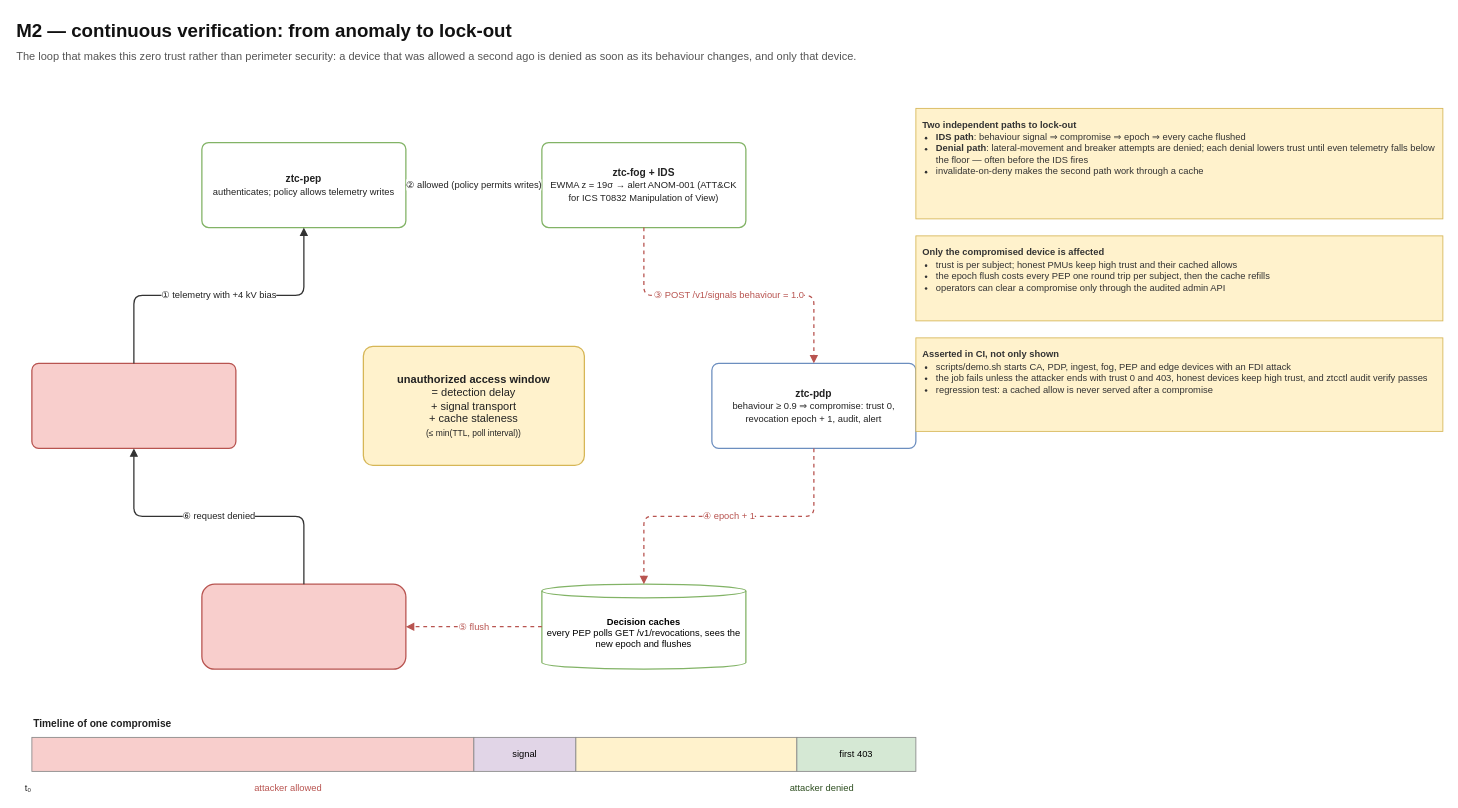
This 1458x808 diagram has some shape labels left out. Here are the shapes that lost their labels. From the top down, the box of each, then its label:
(31, 362, 236, 449): Compromised PMU pmu-b1-3 injects false data
(201, 583, 406, 669): ztc-pep next request: cache miss → PDP deny → 403
(31, 737, 474, 771): detection delay (IDS warm-up, threshold)
(575, 737, 797, 771): cache staleness ≤ poll
